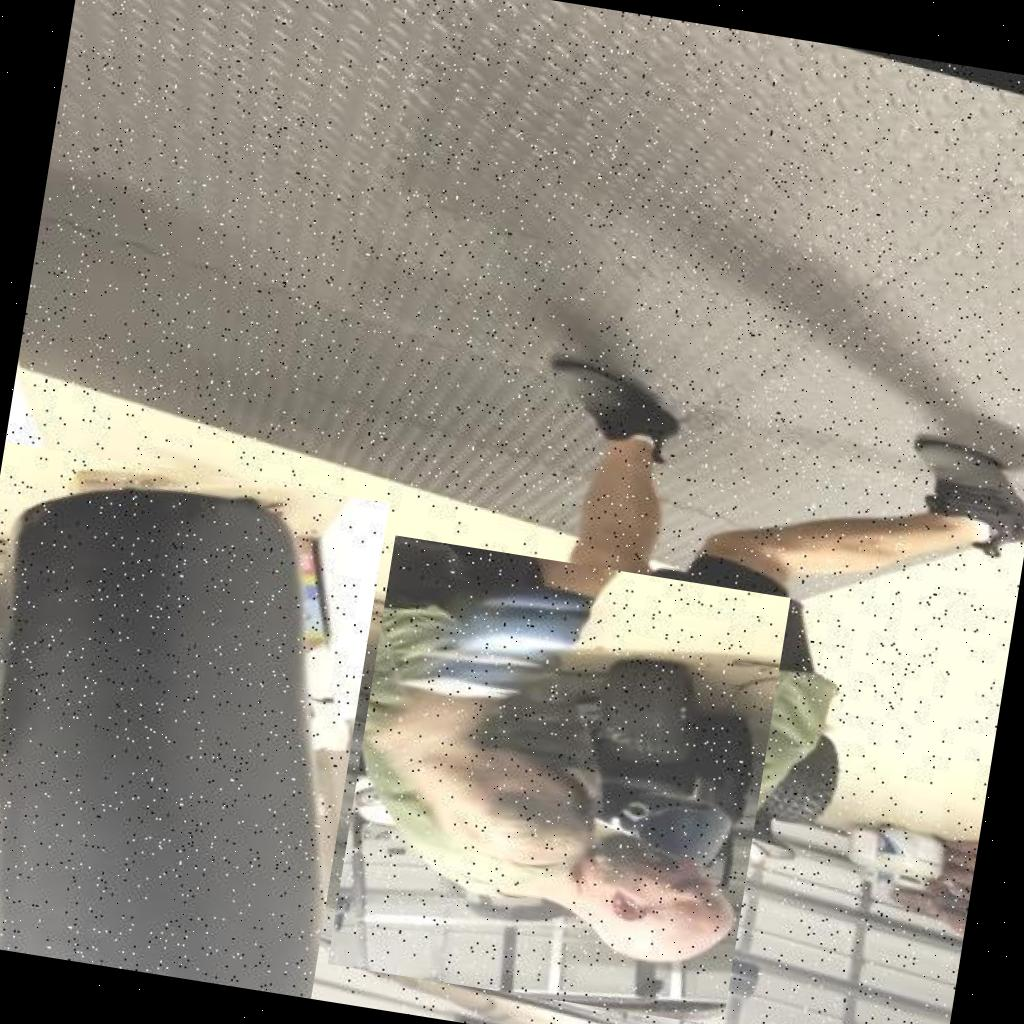bag: (0, 441, 389, 998)
uppercut: (327, 535, 790, 1024)
